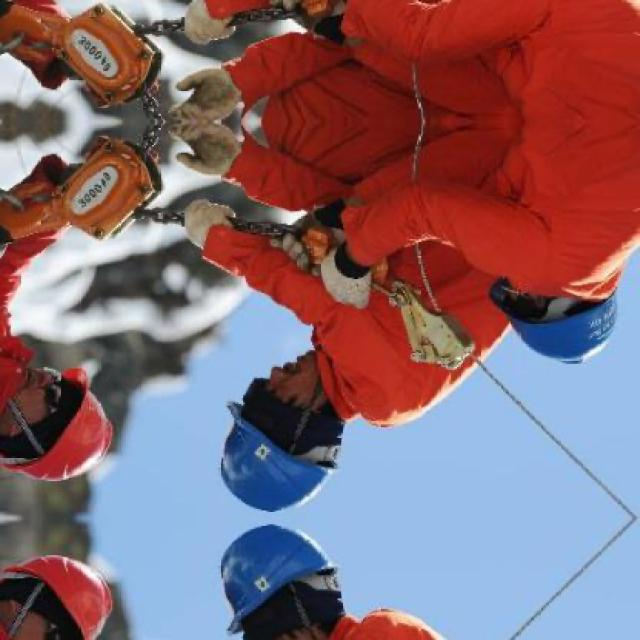con casco: (200, 348, 348, 516), (172, 511, 344, 640), (0, 348, 115, 489), (486, 269, 626, 360), (10, 548, 119, 638)
